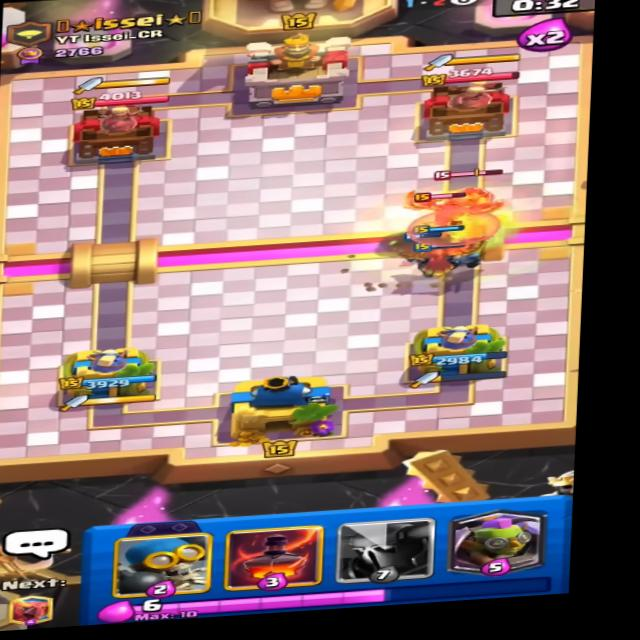goblin-demolisher: (427, 162, 520, 215)
phoenix: (391, 181, 509, 238)
